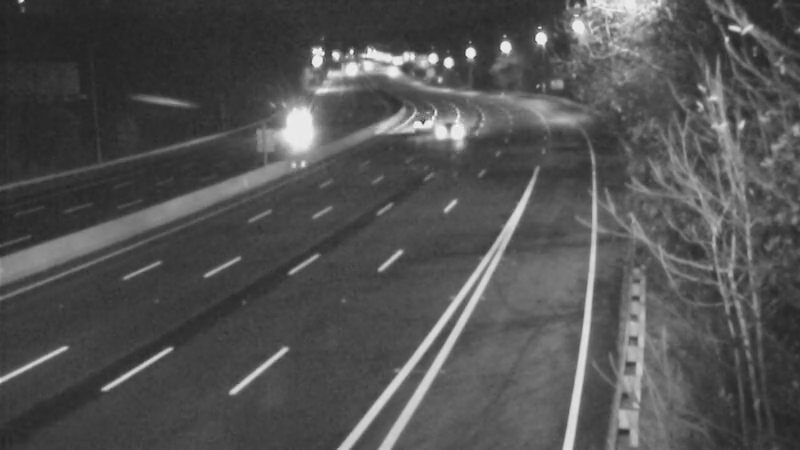vehicle: (367, 45, 417, 95), (392, 98, 442, 148), (426, 99, 476, 149), (276, 94, 326, 144)
